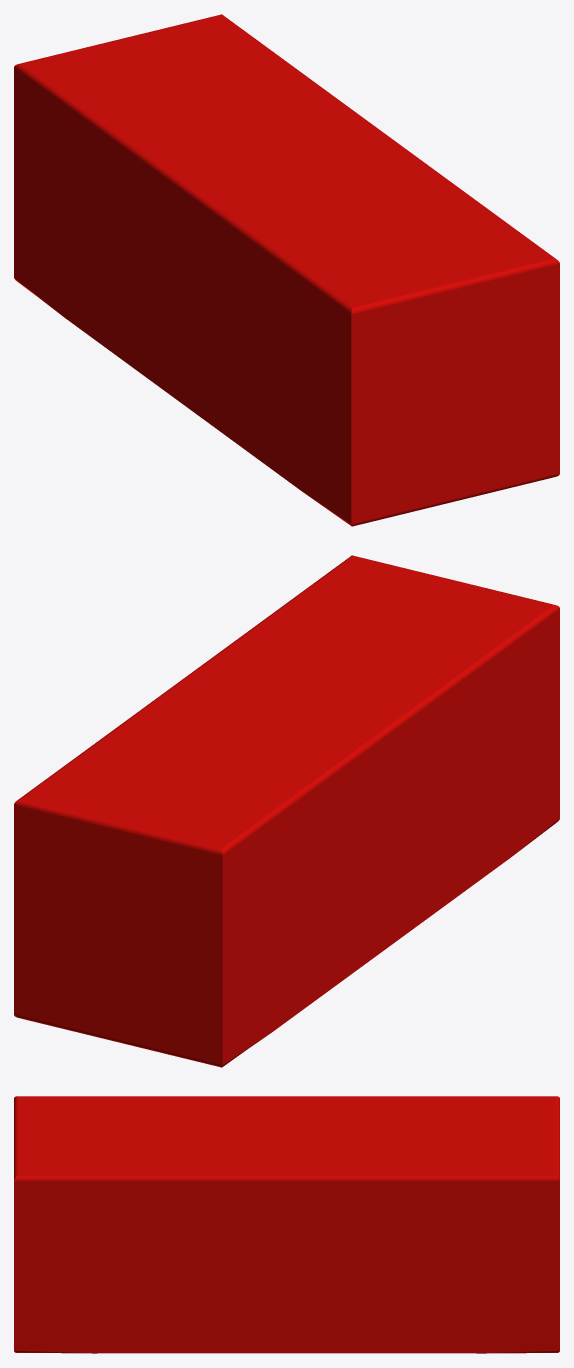
Rendered from BrückeBevel.fbx.
3 views of the same model, one above another, from view 1: azimuth 30°, elevation 25°; view 2: azimuth 150°, elevation 25°; view 3: azimuth 270°, elevation 25° (orthographic). The views are drawn at different scales.
Visible parts, largest first — view 1: BrückeBeveled; view 2: BrückeBeveled; view 3: BrückeBeveled.
Part boxes in pixels (x1,y1,x2,y2): BrückeBeveled: (14,14,559,526); BrückeBeveled: (14,555,559,1067); BrückeBeveled: (14,1096,559,1353).
Bounding box in the file's own units: 25 × 25 × 70.
